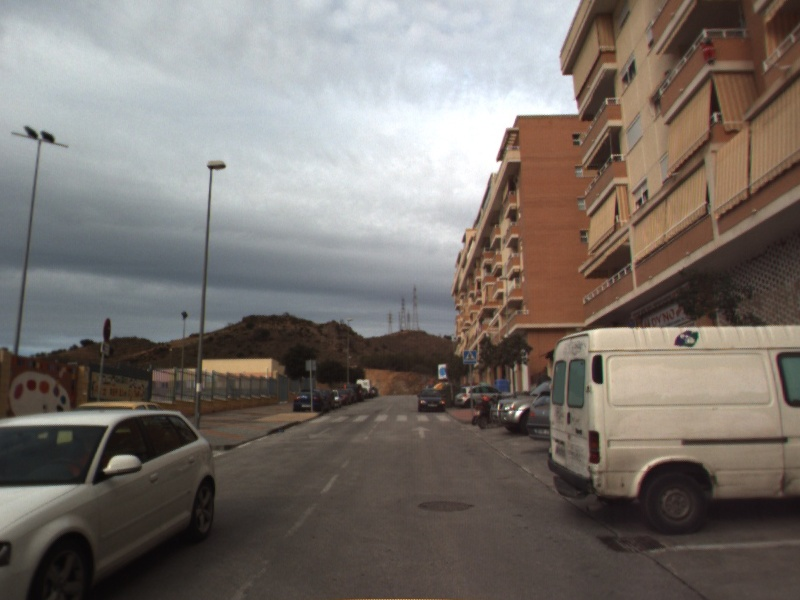STRAIGHT: (409, 424, 433, 440)
